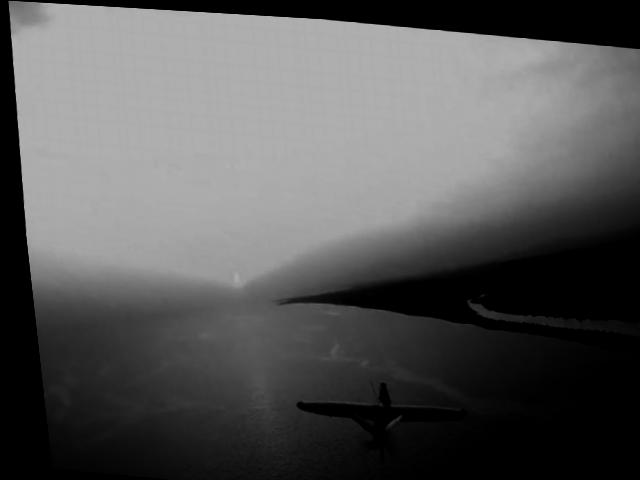hedef: (275, 354, 475, 461)
